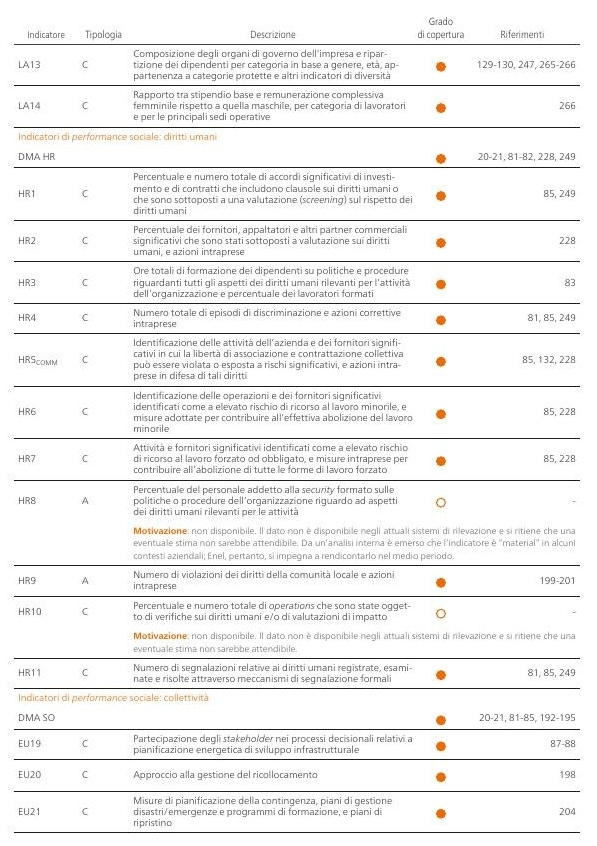table: (0, 0, 597, 846)
